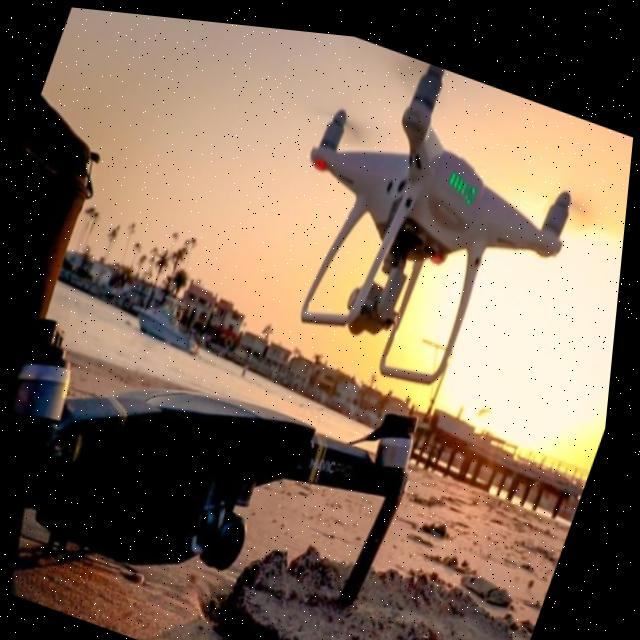drones: (249, 23, 611, 416)
